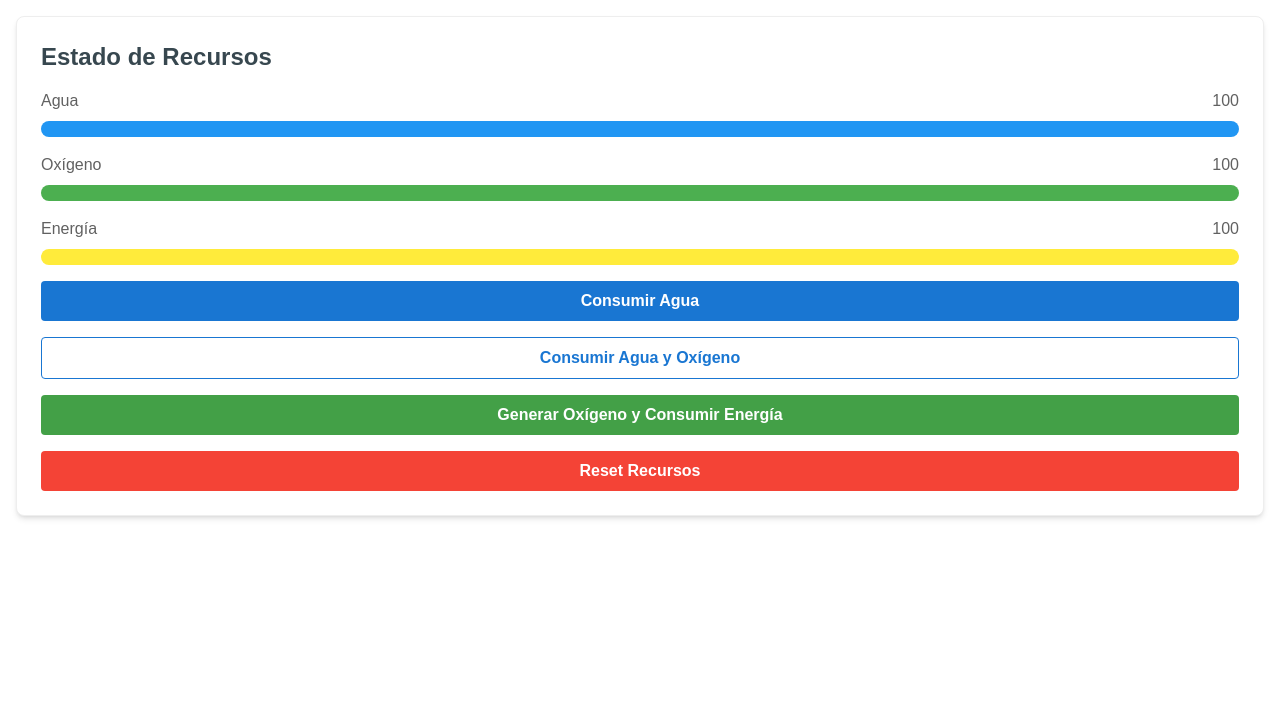
Test case: ResourceControls › when the user clicks "Generar Oxígeno y Consumir Energía" › should clamp oxygen to 100 and reduce energy from 100 to 94 (by default payload)
Click the button "Generar Oxígeno y Consumir Energía" at [640, 415], box [41,395,1239,435]
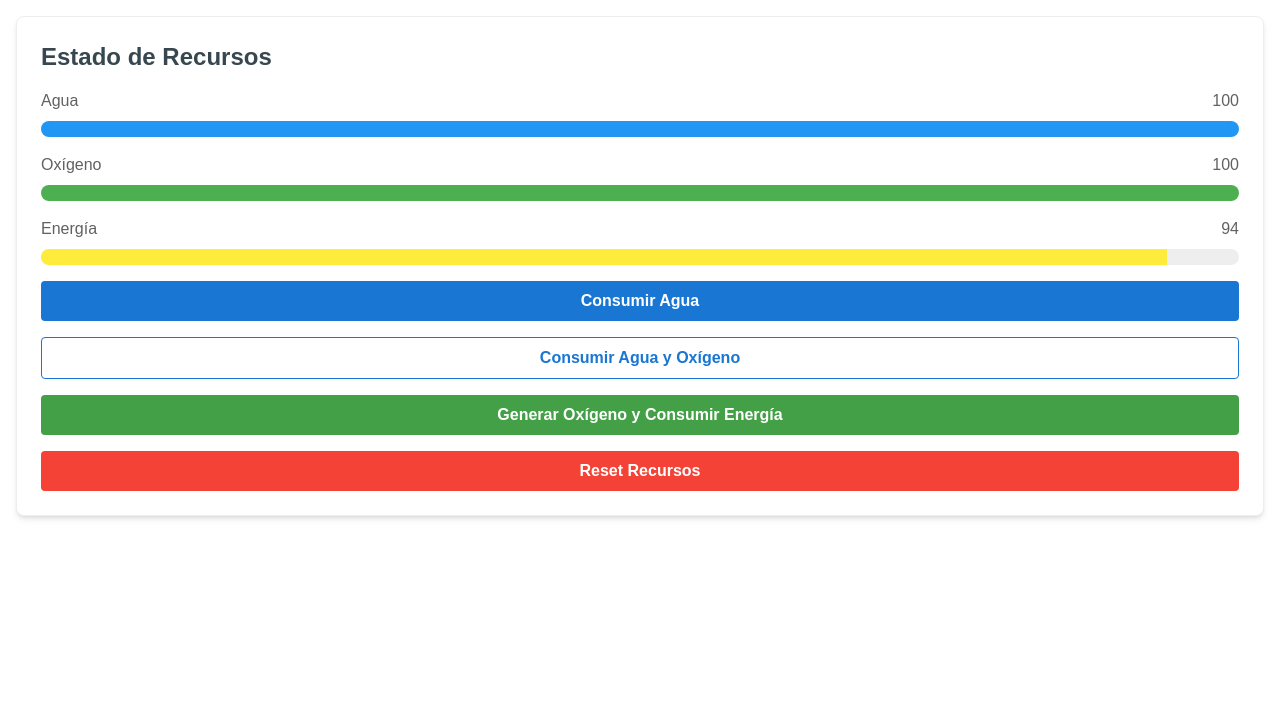
expect the 2nd text "100" is shown: met, box [1212,153,1239,177]
expect the text "94" is shown: met, box [1221,217,1239,241]
